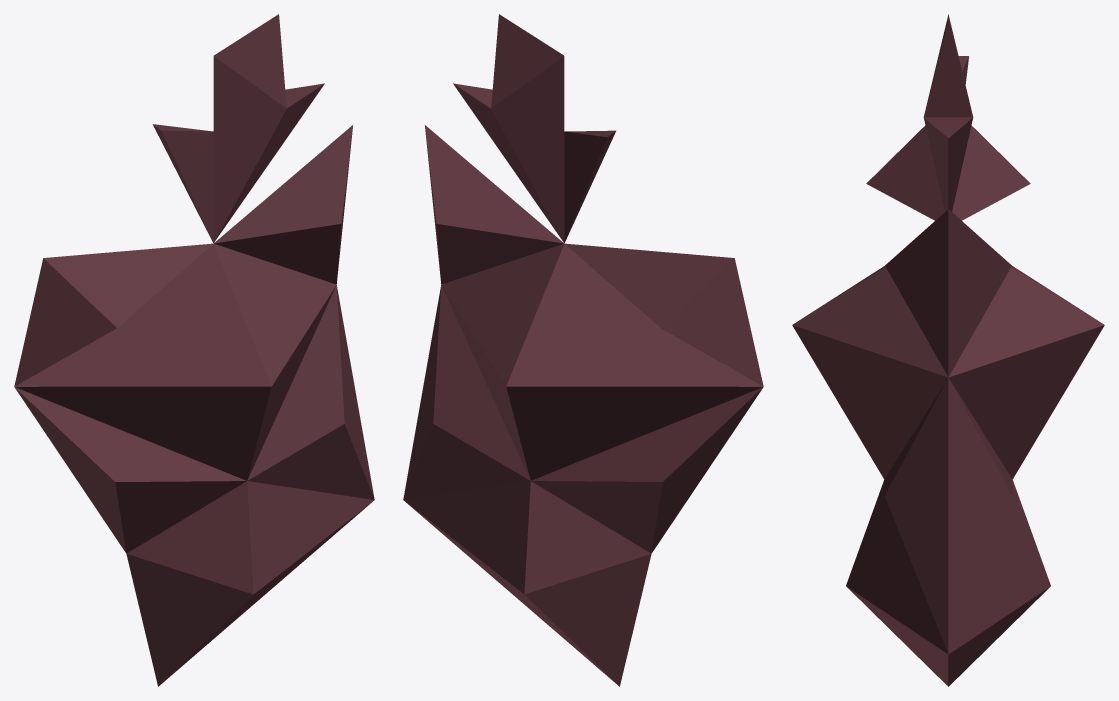
Rendered from empire-grapes-purple-empire.glb.
The picture shows the model from 3 angles, left to right: view 1: azimuth 30°, elevation 25°; view 2: azimuth 150°, elevation 25°; view 3: azimuth 270°, elevation 25°; orthographic projection. The views are drawn at different scales.
Parts seen in each view (by area): view 1: SM_Grapes_Purple_Empire; view 2: SM_Grapes_Purple_Empire; view 3: SM_Grapes_Purple_Empire.
Part boxes in pixels (x1,y1,x2,y2): SM_Grapes_Purple_Empire: (14, 14, 374, 686); SM_Grapes_Purple_Empire: (403, 14, 763, 686); SM_Grapes_Purple_Empire: (792, 14, 1104, 686).
Bounding box in the file's own units: 0.2309 × 0.3938 × 0.1523.
